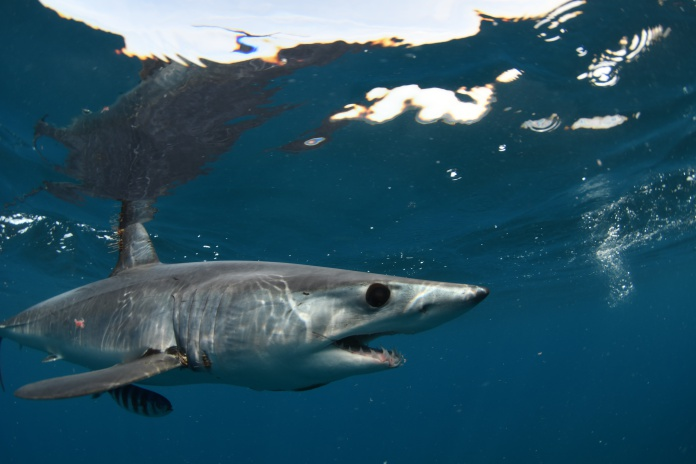Mako: (1, 202, 499, 436)
